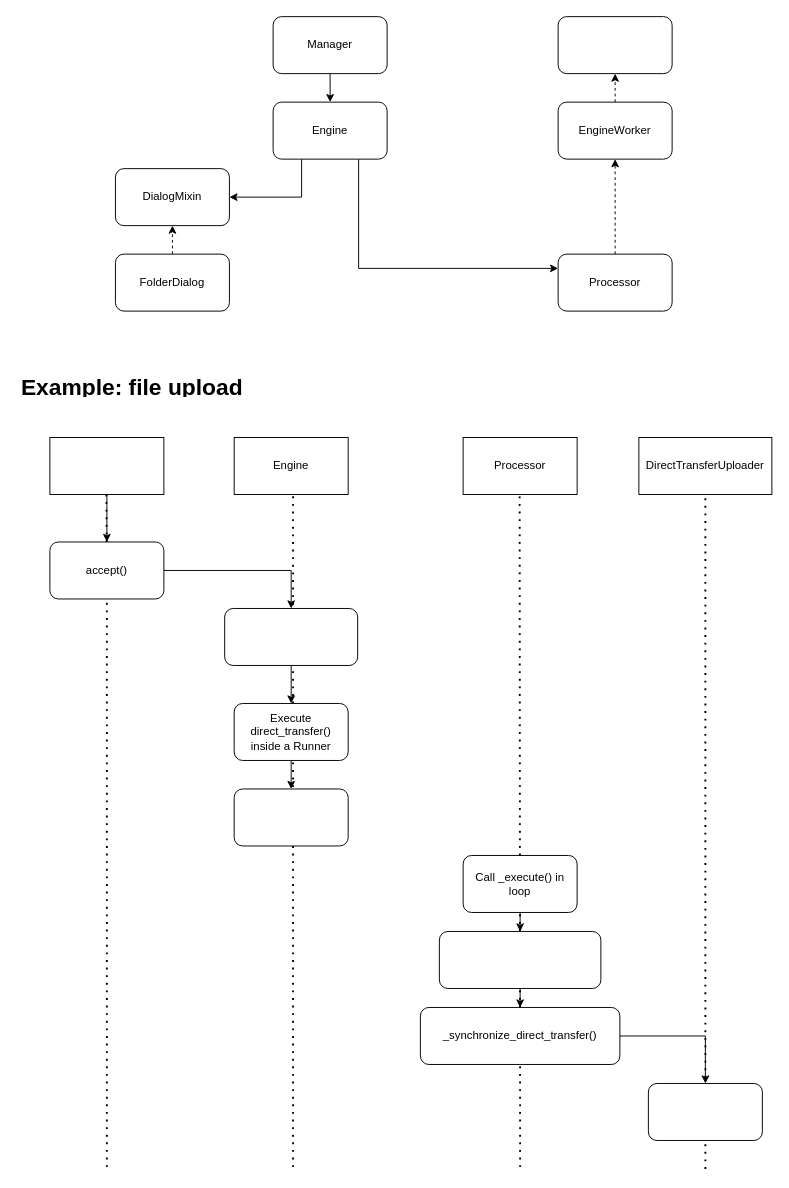
Some shapes in this 789 by 1188 pixel diagram are drawn without their labels. The centre of each missing label's shape, as x and y in pixels:
"Add entries inside the State table as direct_transfer" belongs at (x=290, y=817).
"Detect new entry in States table using _get_next_doc_pair()" belongs at (x=519, y=959).
"direct_transfer_async()" belongs at (x=291, y=636).
"FoldersDialog" belongs at (x=106, y=465).
"upload()" belongs at (x=704, y=1111).
"Worker" belongs at (x=614, y=45).
